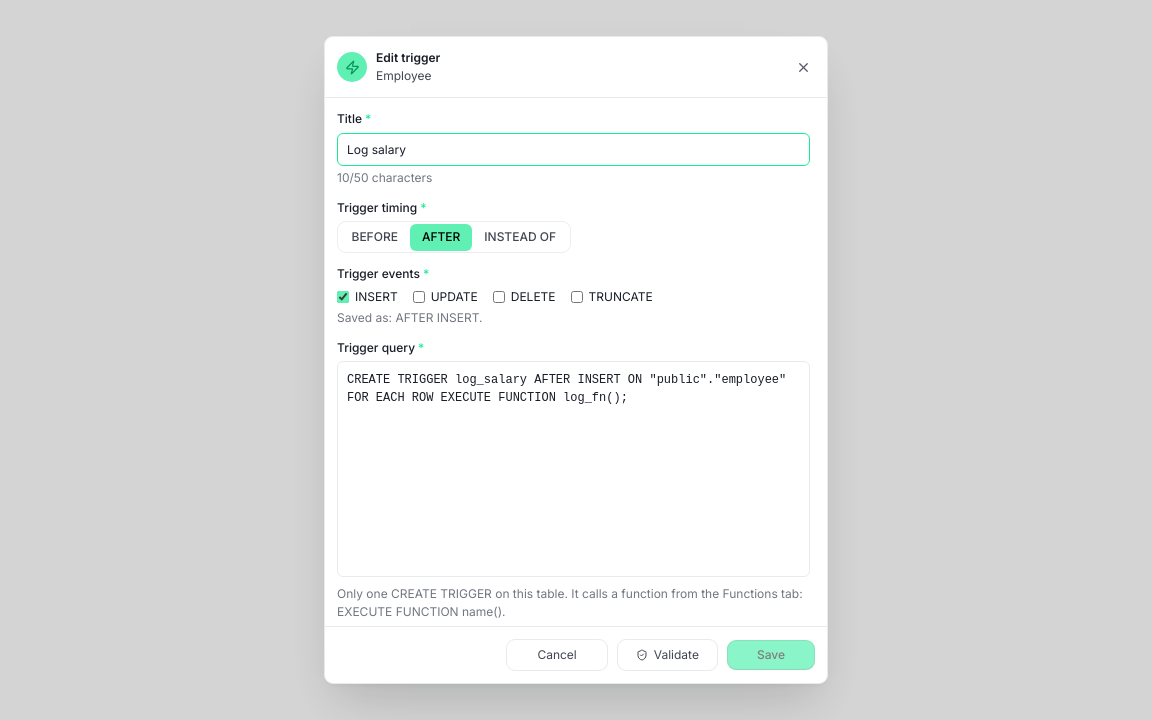
it: AutomationFormModal › editing › disables Run while there are unsaved changes
Click the button "Validate" at (667, 655), box x1=617 y1=639 x2=718 y2=671
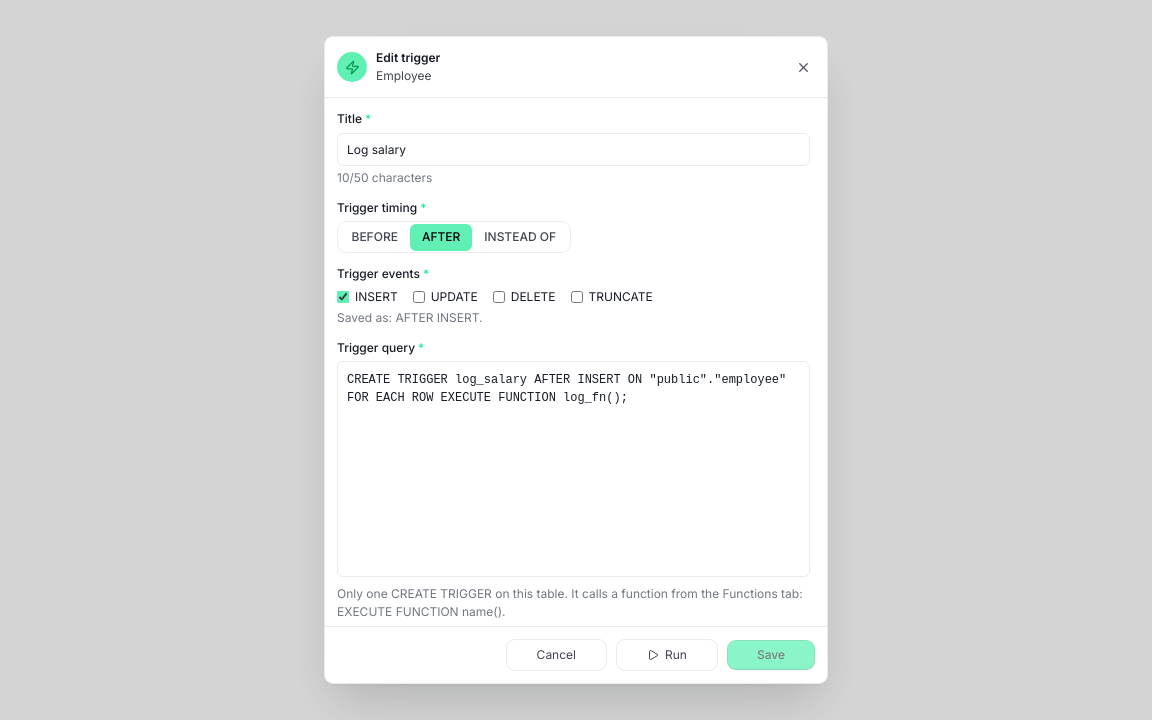
Now the button "Run" is enabled, box x1=616 y1=639 x2=718 y2=671
Type "!" into the field labelled "Title *" at (574, 149), box x1=337 y1=132 x2=810 y2=166
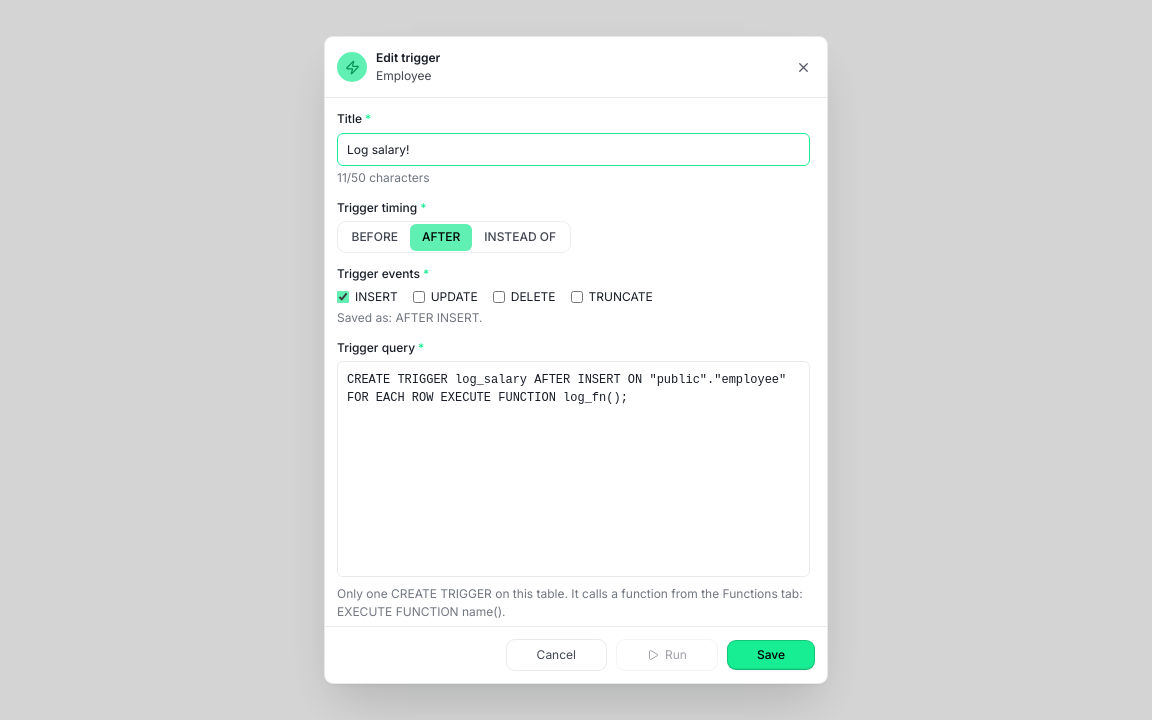
Now the button "Run" is disabled, box x1=616 y1=639 x2=718 y2=671
